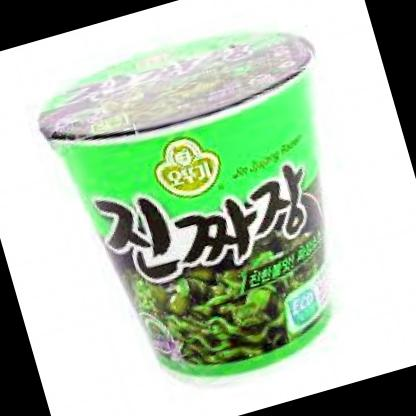Ramen: (26, 4, 404, 410)
